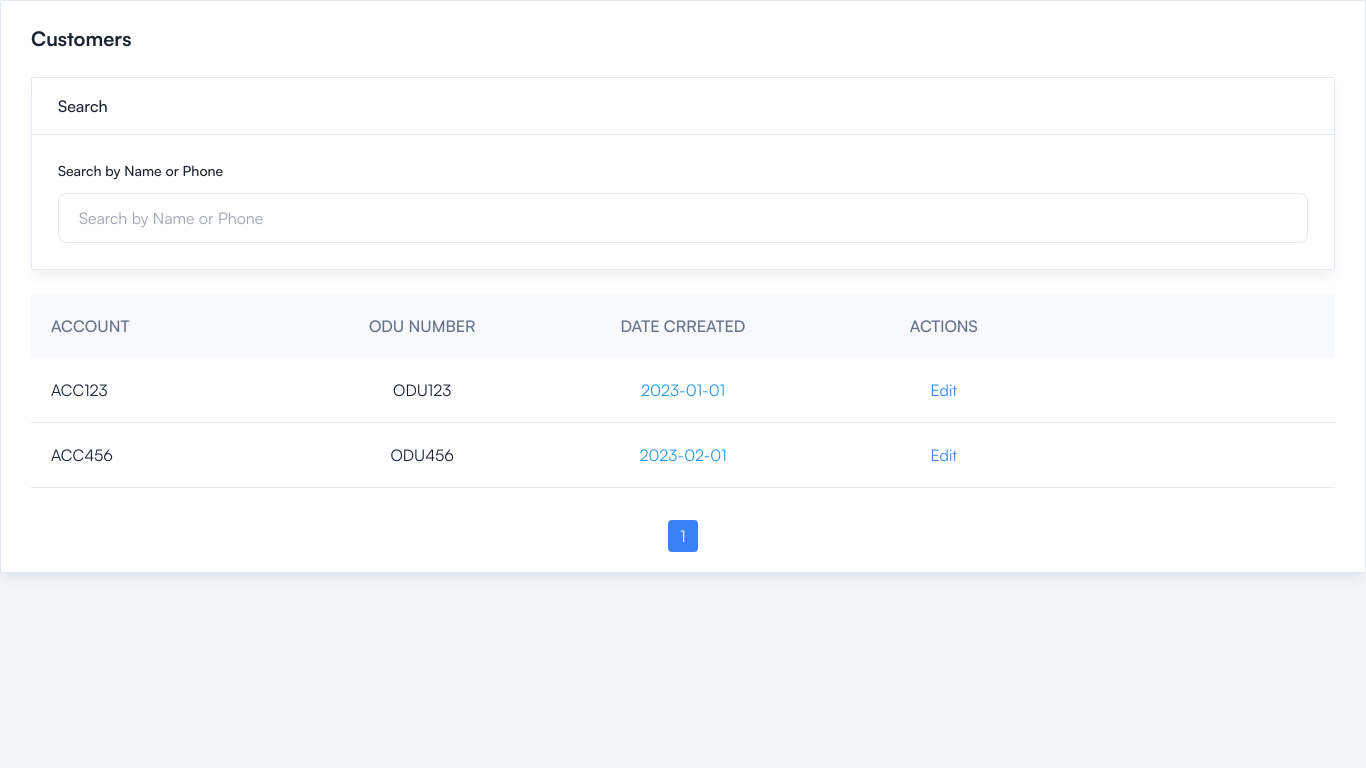
Test: RoutersTable › filters routers based on search query
Type "ODU123" into the field. click: (683, 218)
box: [58,193,1308,243]
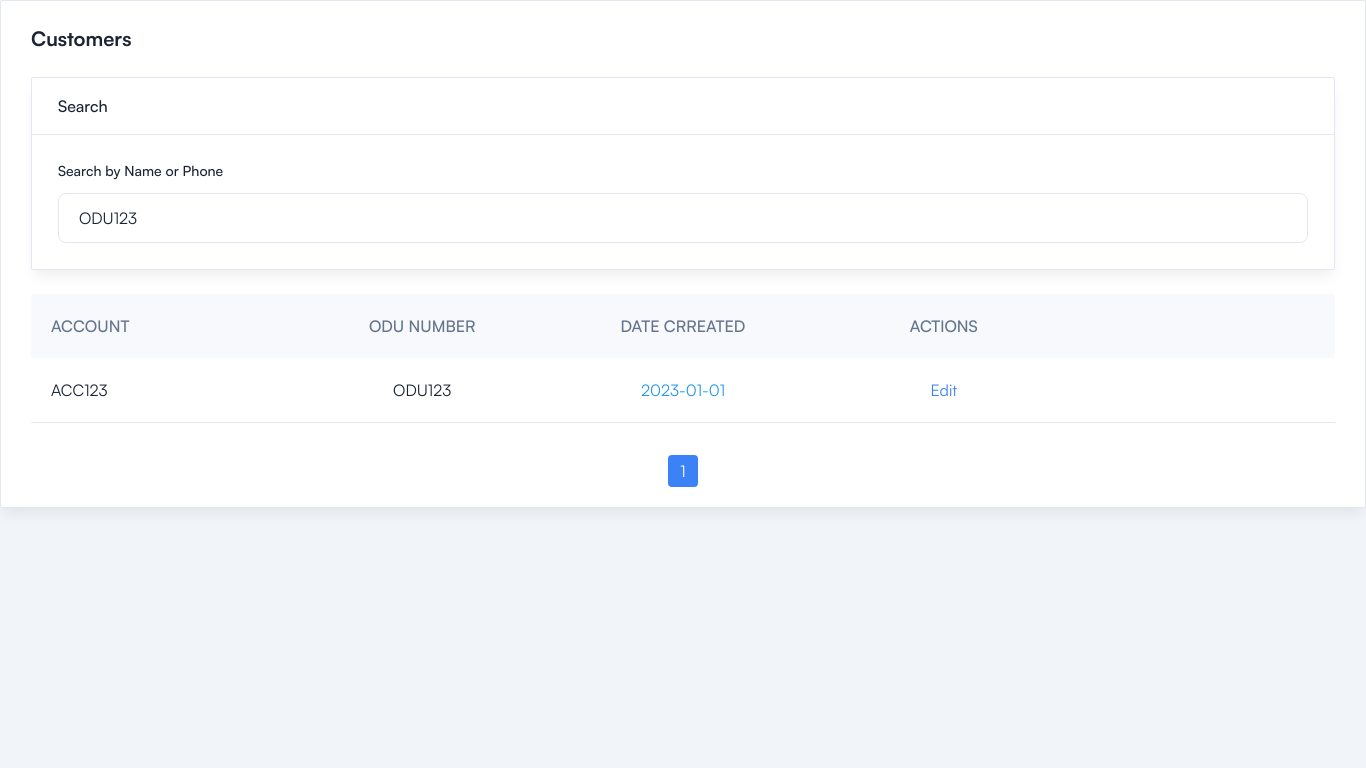
expect the text "ODU123" is shown: met, box [393,378,451,402]
expect the text "ODU456" is gone: met
